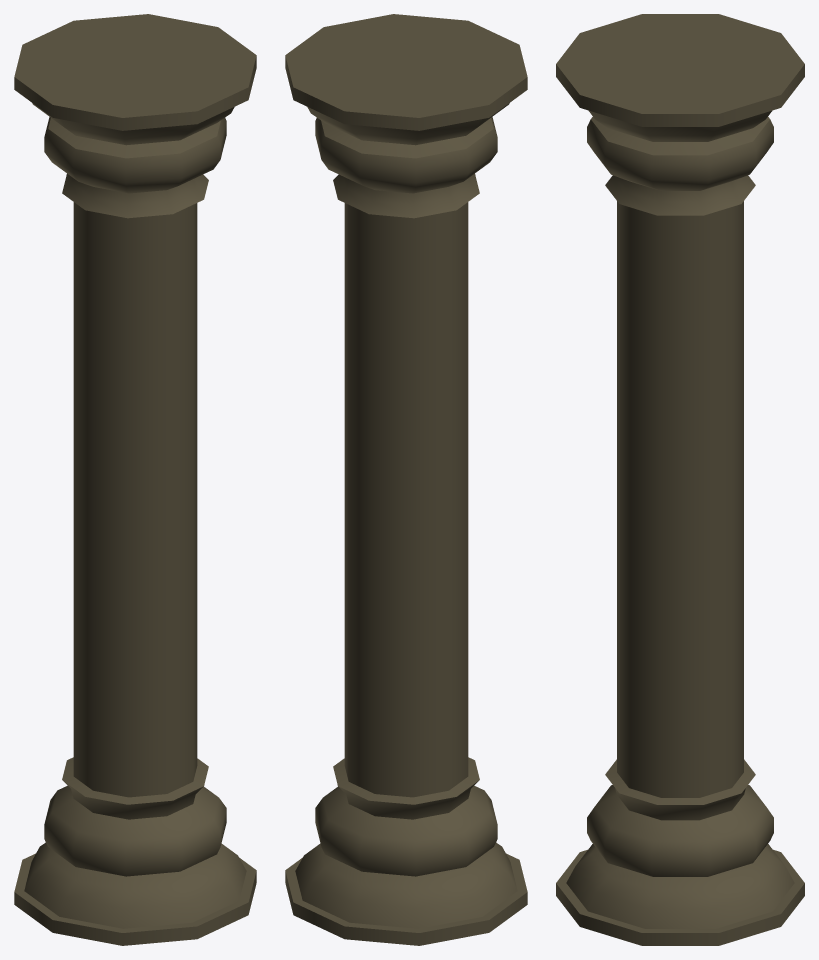
Rendered from Column_Round3.obj.
The picture shows the model from 3 angles, left to right: view 1: azimuth 30°, elevation 25°; view 2: azimuth 150°, elevation 25°; view 3: azimuth 270°, elevation 25°; orthographic projection.
Visible parts, largest first — view 1: Column_Round3_Cylinder.059; view 2: Column_Round3_Cylinder.059; view 3: Column_Round3_Cylinder.059.
Part boxes in pixels (bbox=[...]): Column_Round3_Cylinder.059: bbox=[14, 14, 256, 945]; Column_Round3_Cylinder.059: bbox=[285, 14, 527, 945]; Column_Round3_Cylinder.059: bbox=[556, 14, 804, 945].
Size of the model in its own units: 1.4 by 5.43 by 1.47.
